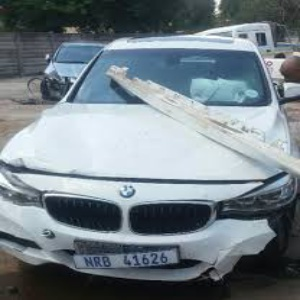bumper: (196, 220, 279, 286)
